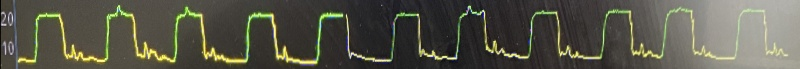hydrop_pressure: (8, 2, 800, 69)
